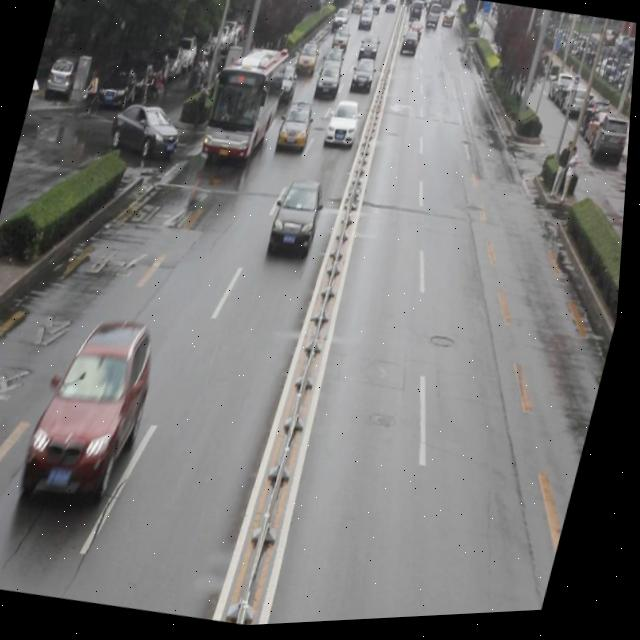car: (22, 311, 168, 514), (107, 97, 188, 164), (269, 180, 330, 259), (324, 101, 365, 151), (278, 102, 316, 153), (269, 65, 301, 111)
van: (201, 40, 292, 170)
